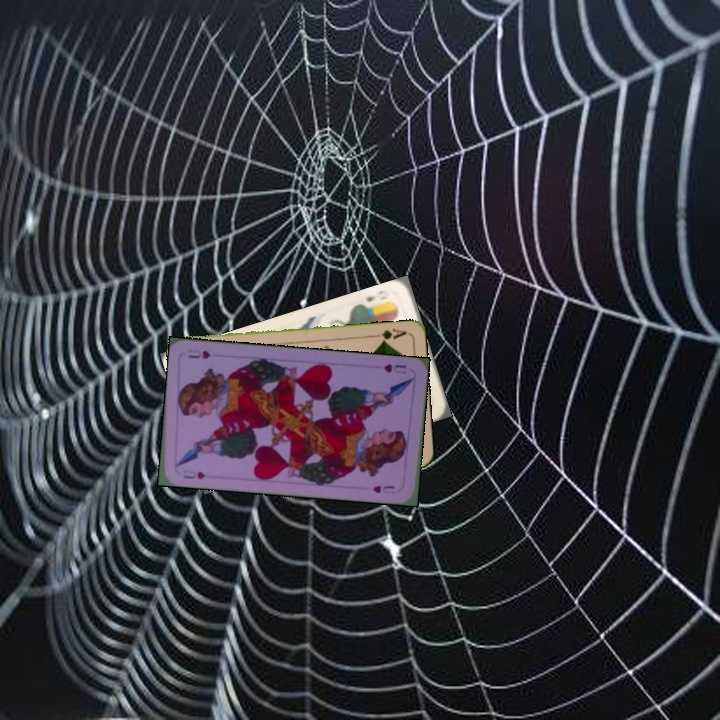EO: (361, 286, 392, 304)
GA: (369, 324, 409, 345)
HU: (380, 360, 409, 376), (179, 466, 208, 482)
